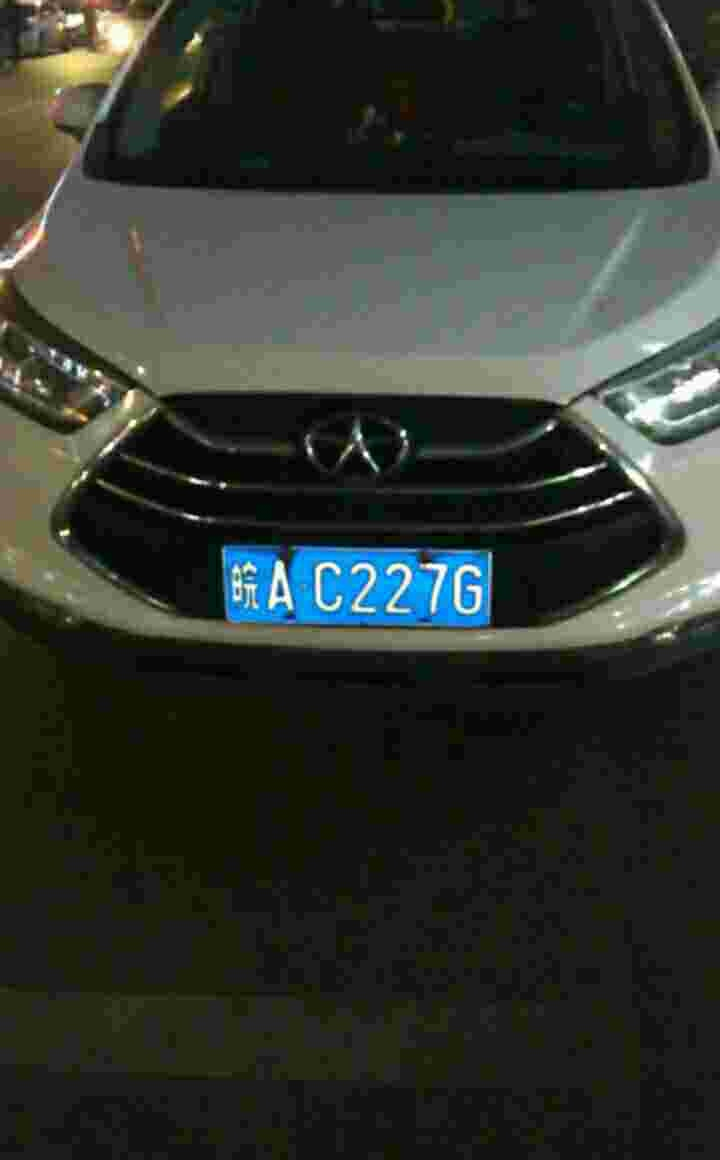car: (218, 539, 505, 633)
